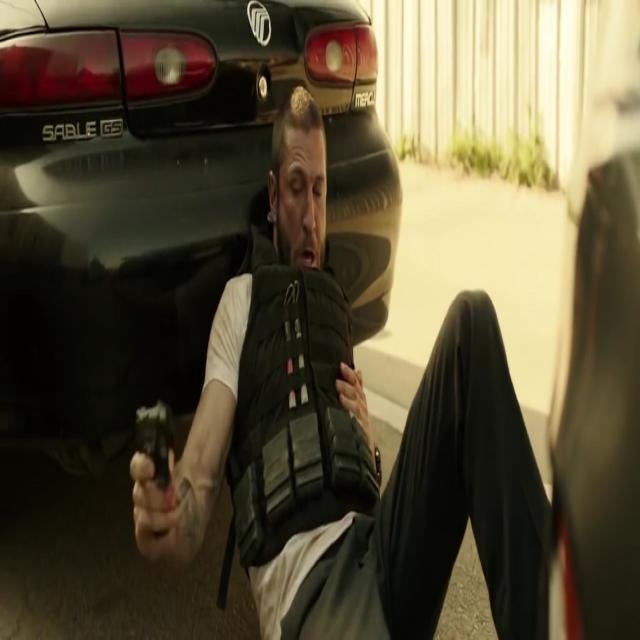Weapon: (140, 372, 184, 536)
